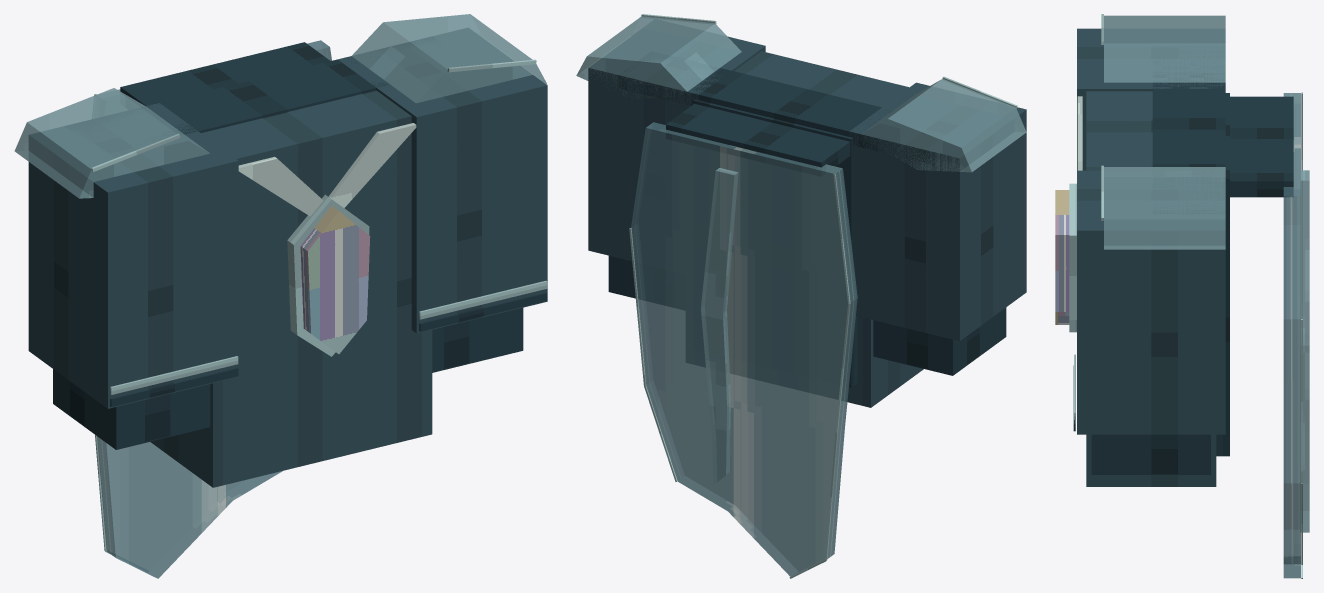
Rendered from yuanying_jiuse_chestplate.obj.
3 views of the same model, side by side, from view 1: azimuth 30°, elevation 25°; view 2: azimuth 150°, elevation 25°; view 3: azimuth 270°, elevation 25° (orthographic). The views are drawn at different scales.
Visible parts, largest first — view 1: glass_body, glass_sleeve_-1, glass_sleeve_1, glass_cut_waterfall, jiu_shoulder_-1, jiu_shoulder_1, jiu_new_collar_root, jiu_heart, glass_under_sleeve_-1, glass_fall_root, jiu_inner_collar, glass_under_sleeve_1 (+5 smaller); view 2: glass_cut_waterfall, glass_sleeve_-1, glass_sleeve_1, jiu_shoulder_-1, jiu_new_collar_root, jiu_shoulder_1, jiu_back_ridge, glass_body, glass_fall_root, glass_under_sleeve_-1, glass_back_body, glass_under_sleeve_1; view 3: glass_sleeve_1, jiu_shoulder_1, glass_sleeve_-1, jiu_shoulder_-1, glass_cut_waterfall, jiu_new_collar_root, glass_body, glass_fall_root, glass_under_sleeve_1, jiu_back_ridge, glass_back_body, jiu_heart (+2 smaller).
Part boxes in pixels (x1,y1,x2,y2): glass_body: [150, 90, 432, 487]; glass_sleeve_-1: [28, 103, 238, 408]; glass_sleeve_1: [338, 28, 547, 333]; glass_cut_waterfall: [97, 40, 331, 578]; jiu_shoulder_-1: [14, 88, 209, 198]; jiu_shoulder_1: [352, 14, 547, 103]; jiu_new_collar_root: [65, 36, 436, 138]; jiu_heart: [300, 206, 370, 353]; glass_under_sleeve_-1: [53, 369, 210, 449]; glass_fall_root: [120, 42, 329, 105]; jiu_inner_collar: [238, 123, 416, 216]; glass_under_sleeve_1: [432, 308, 523, 372]; glass_cut_waterfall: [631, 122, 857, 576]; glass_sleeve_-1: [849, 82, 1026, 341]; glass_sleeve_1: [588, 28, 765, 260]; jiu_shoulder_-1: [861, 79, 1026, 172]; jiu_new_collar_root: [618, 51, 929, 163]; jiu_shoulder_1: [576, 16, 741, 98]; jiu_back_ridge: [700, 168, 738, 484]; glass_body: [734, 51, 923, 407]; glass_fall_root: [666, 103, 850, 176]; glass_under_sleeve_-1: [873, 307, 1006, 375]; glass_back_body: [693, 99, 857, 387]; glass_under_sleeve_1: [608, 255, 635, 298]; glass_sleeve_1: [1077, 170, 1225, 434]; jiu_shoulder_1: [1104, 167, 1225, 249]; glass_sleeve_-1: [1077, 28, 1225, 170]; jiu_shoulder_-1: [1104, 15, 1225, 82]; glass_cut_waterfall: [1283, 93, 1300, 578]; jiu_new_collar_root: [1152, 45, 1225, 213]; glass_body: [1086, 91, 1216, 486]; glass_fall_root: [1230, 96, 1293, 197]; glass_under_sleeve_1: [1091, 434, 1210, 474]; jiu_back_ridge: [1300, 170, 1309, 532]; glass_back_body: [1216, 93, 1229, 456]; jiu_heart: [1055, 190, 1069, 324].
Bounding box in the file's own units: 1.17 × 1.28 × 0.5863.
